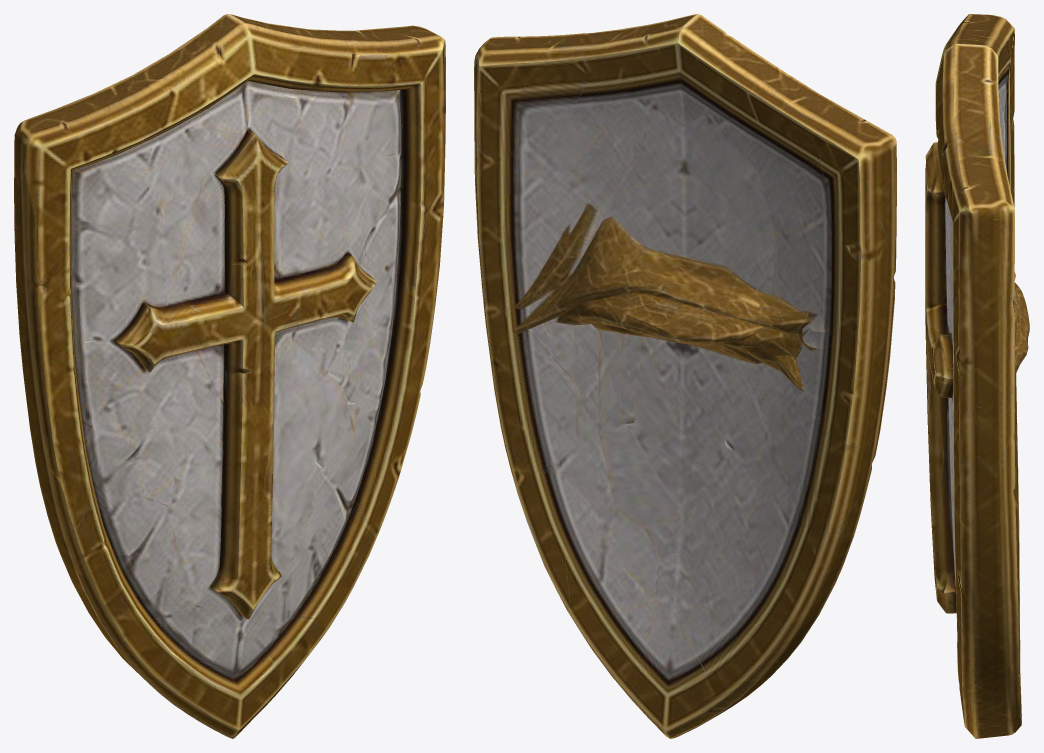
File: templar_shield.glb
3 views of the same model, side by side, from view 1: azimuth 30°, elevation 25°; view 2: azimuth 150°, elevation 25°; view 3: azimuth 270°, elevation 25° (orthographic). The views are drawn at different scales.
Size of the model in its own units: 0.9062 by 1.49 by 0.2024.
1 material, 1 textured.
